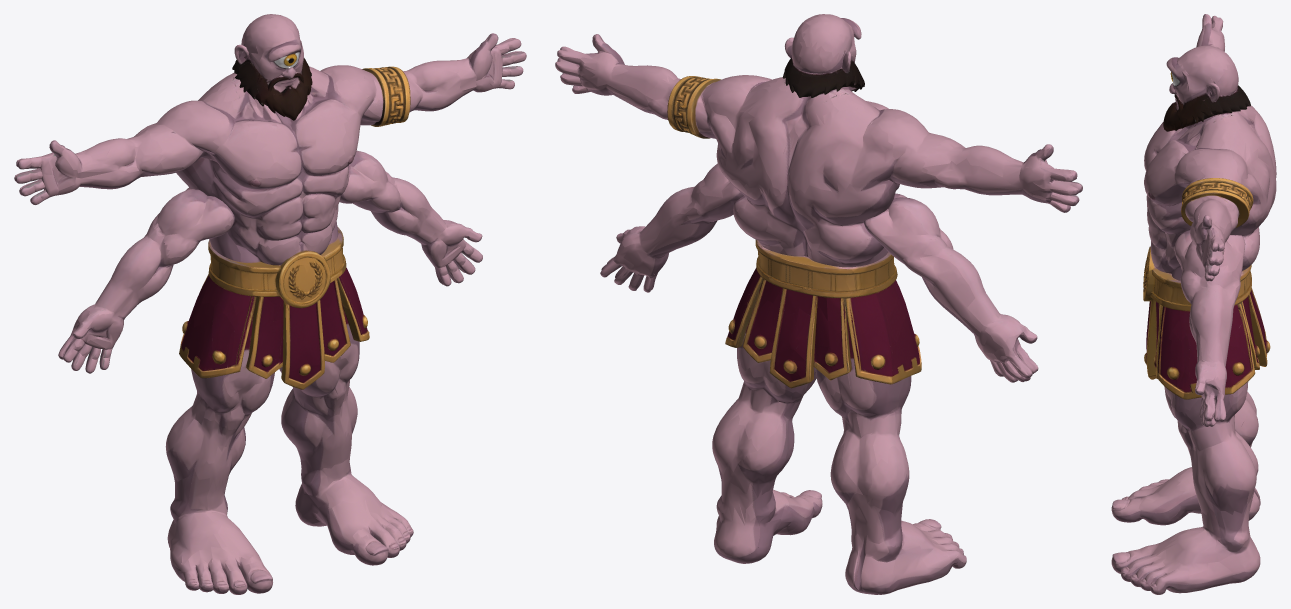
The model's file is raw.glb.
The picture shows the model from 3 angles, left to right: view 1: azimuth 30°, elevation 25°; view 2: azimuth 150°, elevation 25°; view 3: azimuth 270°, elevation 25°; orthographic projection. The views are drawn at different scales.
Bounding box in the file's own units: 1.9 × 1.89 × 0.5669.
Materials: 1 (1 with a texture image).
